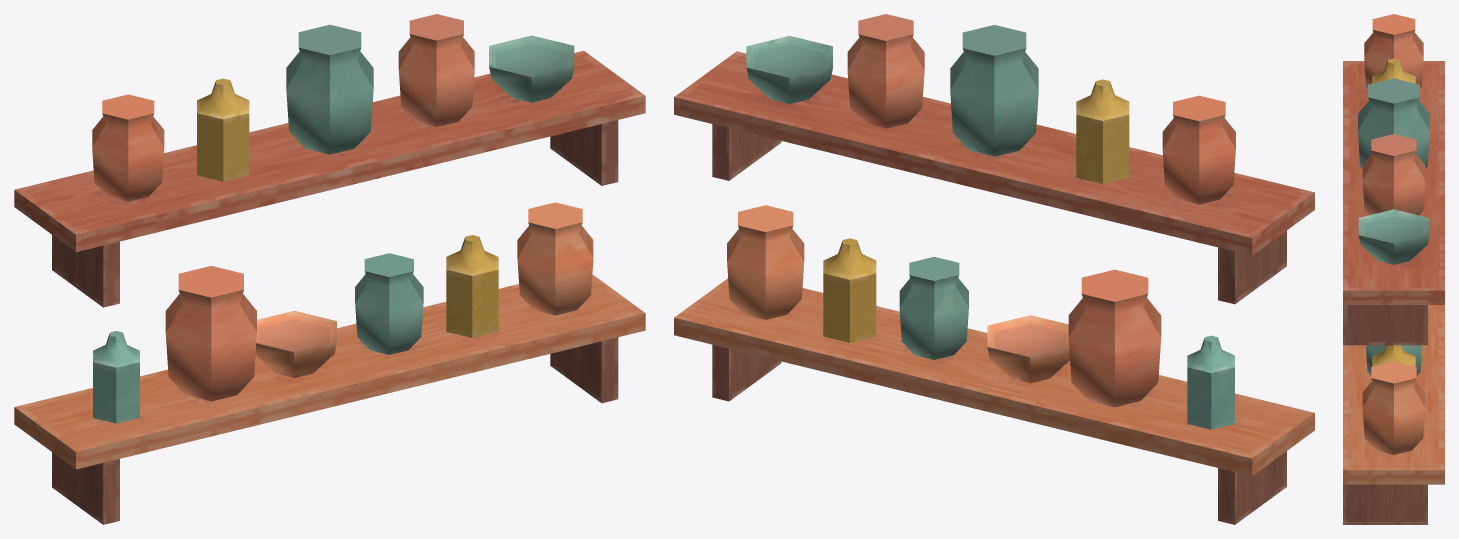
File: shelf_low.fbx
3 views of the same model, side by side, from view 1: azimuth 30°, elevation 25°; view 2: azimuth 150°, elevation 25°; view 3: azimuth 270°, elevation 25° (orthographic). The views are drawn at different scales.
Visible parts, largest first — view 1: shelf; view 2: shelf; view 3: shelf.
Part boxes in pixels (x1,y1,x2,y2): shelf: (14,14,645,524); shelf: (674,14,1314,524); shelf: (1343,14,1444,524).
Bounding box in the file's own units: 4.8 × 3.22 × 0.9.
Materials: 1 (1 with a texture image).
